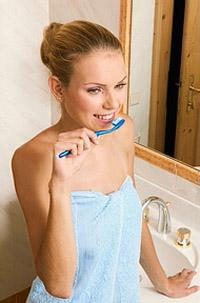person: (11, 20, 199, 303)
